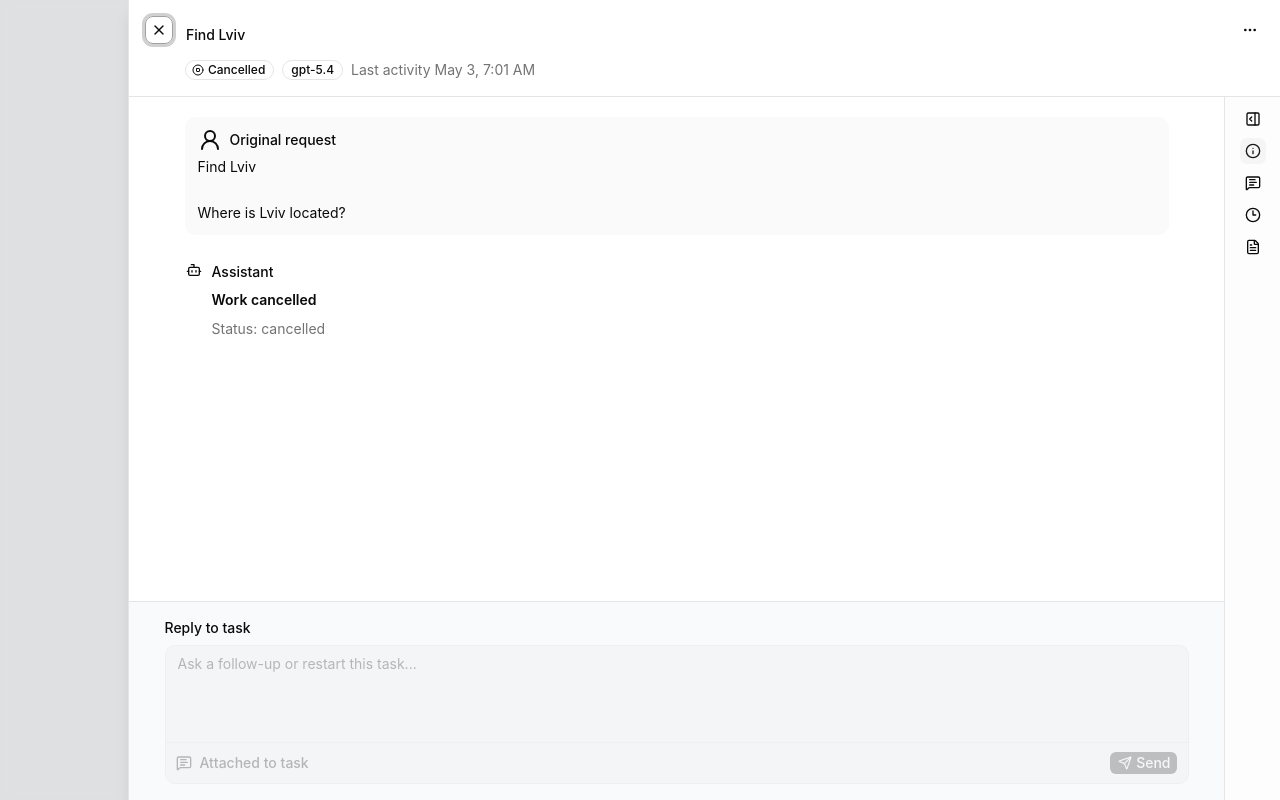
Test: TaskModal › shows cancelled runs as terminal task history
Click the button named "Open Runs": (1252, 215) [1238,201,1266,229]
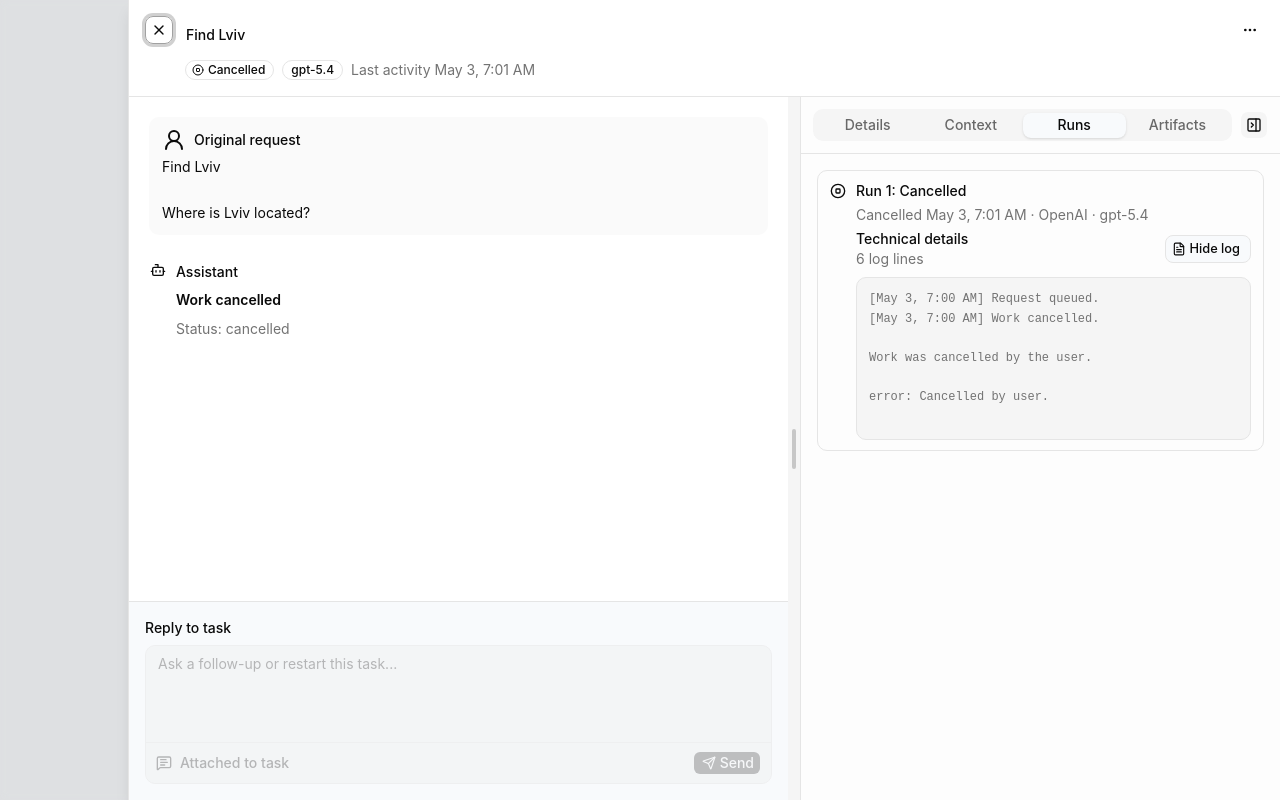
Now the text "Run 1: Cancelled" is shown, box [856,181,966,200]
Now the text "Work was cancelled by the user." is shown, box [869,292,1099,404]
